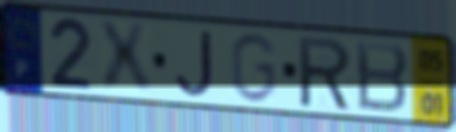2: (46, 14, 97, 96)
B: (353, 38, 411, 116)
G: (227, 30, 279, 106)
J: (173, 28, 216, 100)
R: (295, 34, 354, 114)
X: (94, 20, 155, 96)
